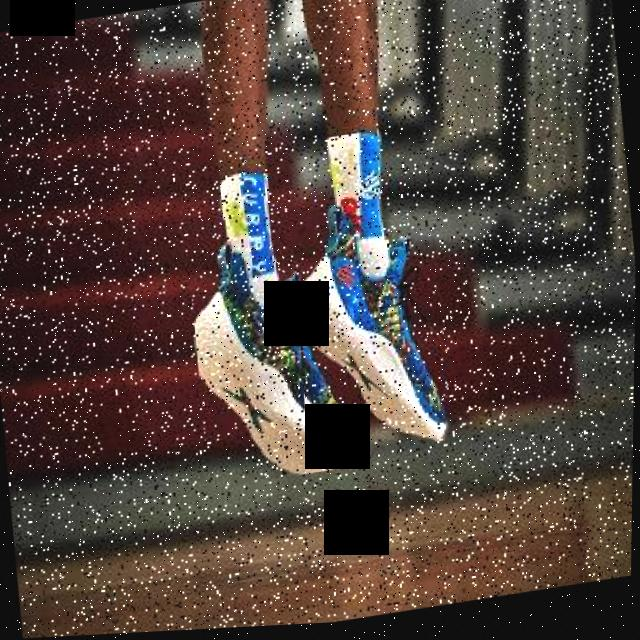shoe: (185, 226, 367, 492), (284, 193, 458, 466)
